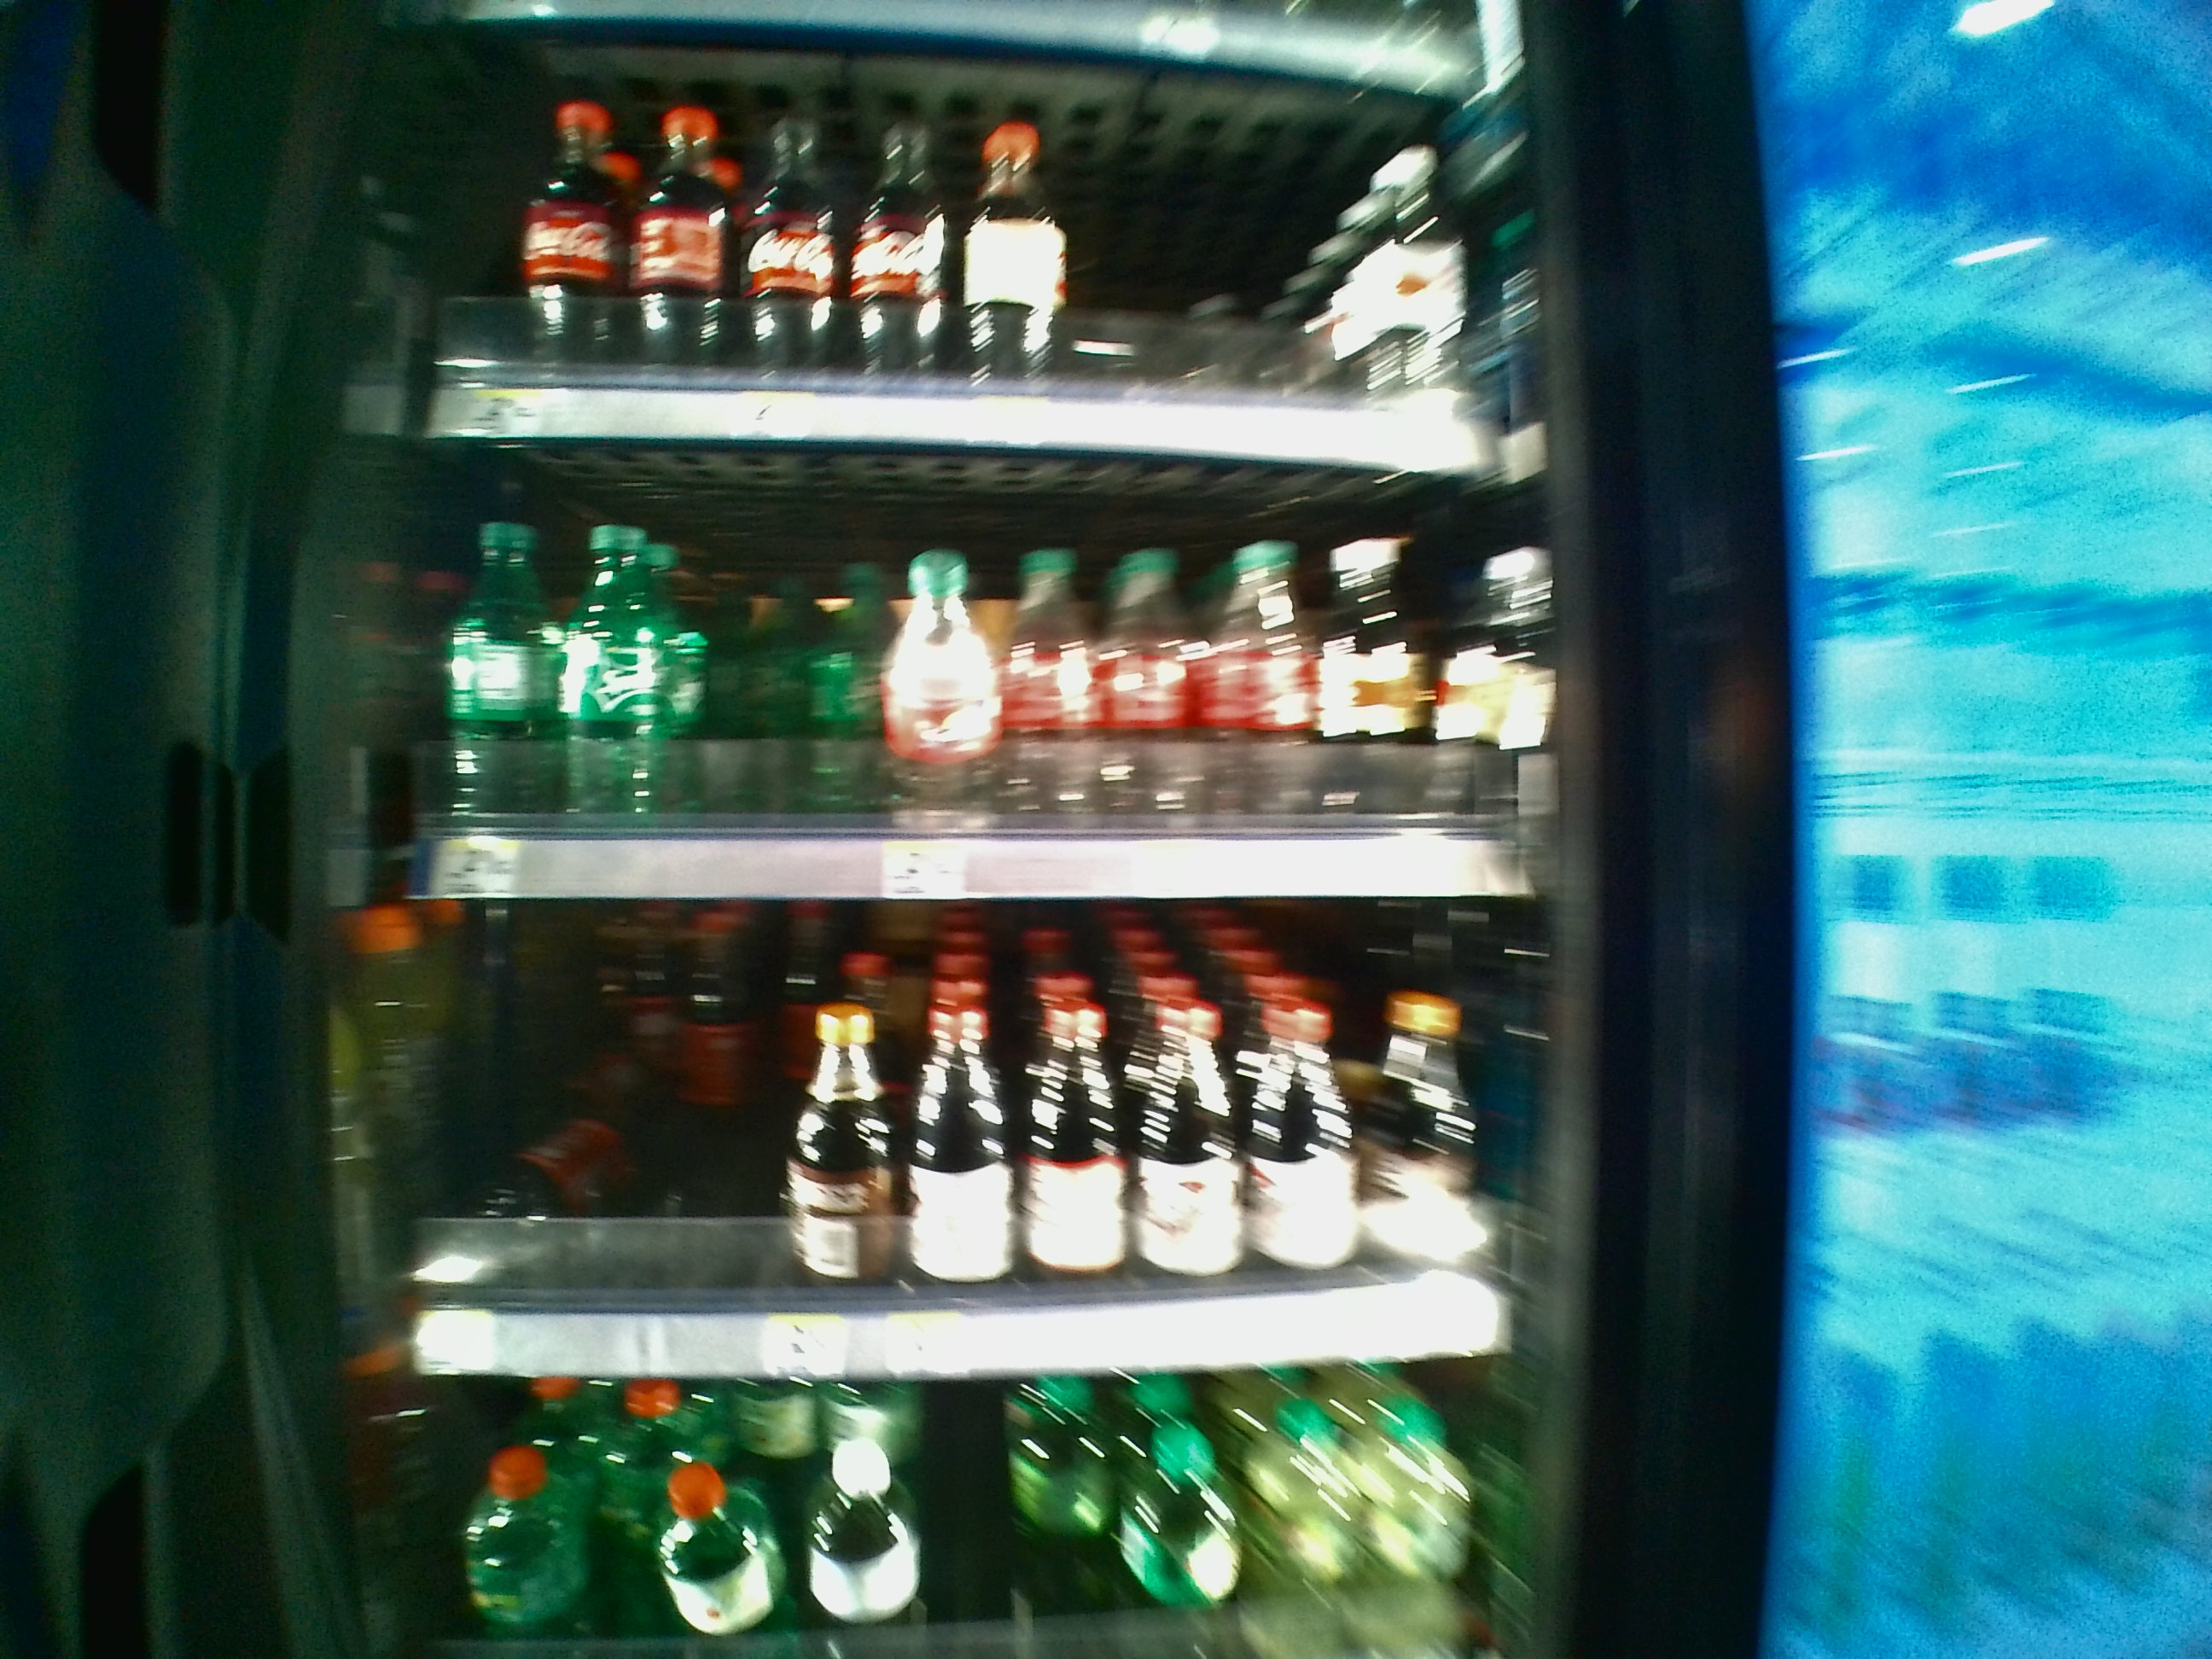shelf: (399, 899, 1566, 1378), (406, 448, 1571, 904)
